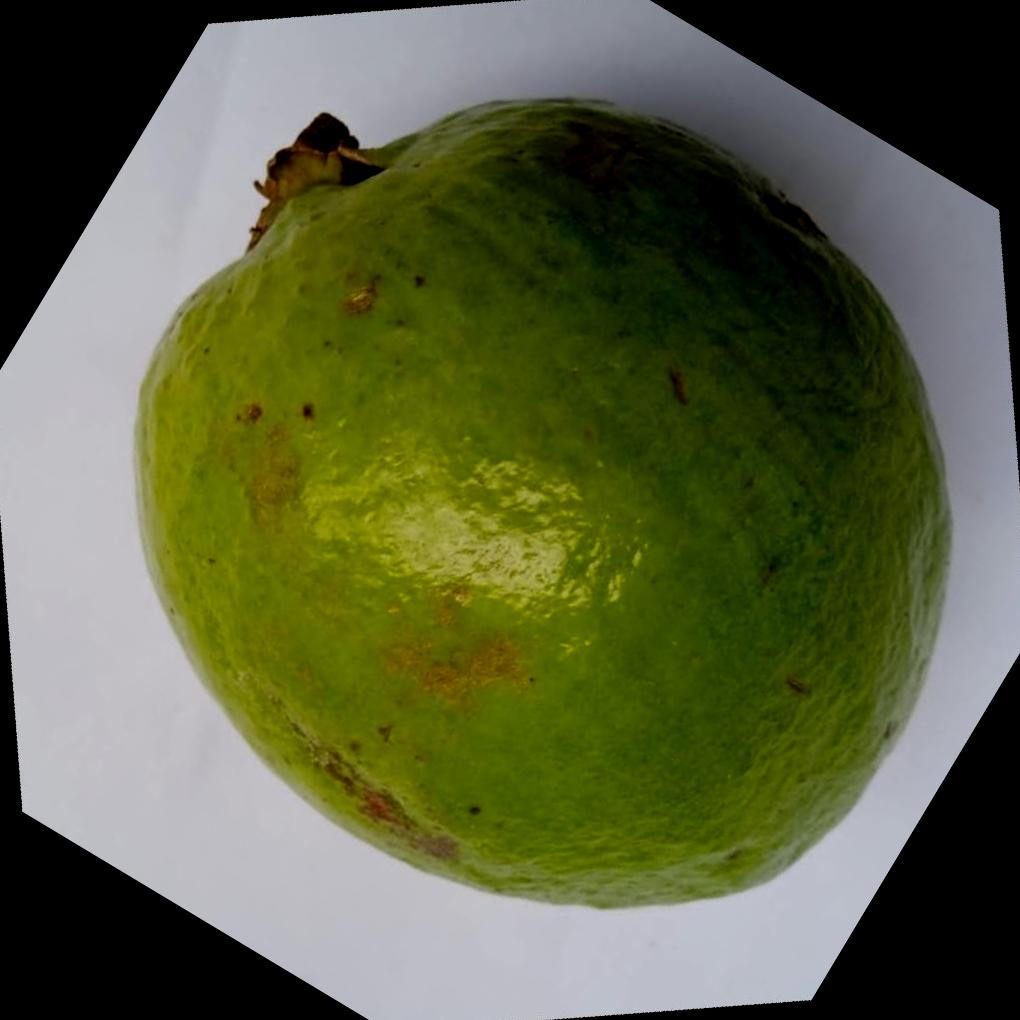FreshGuava: (132, 97, 957, 915)
